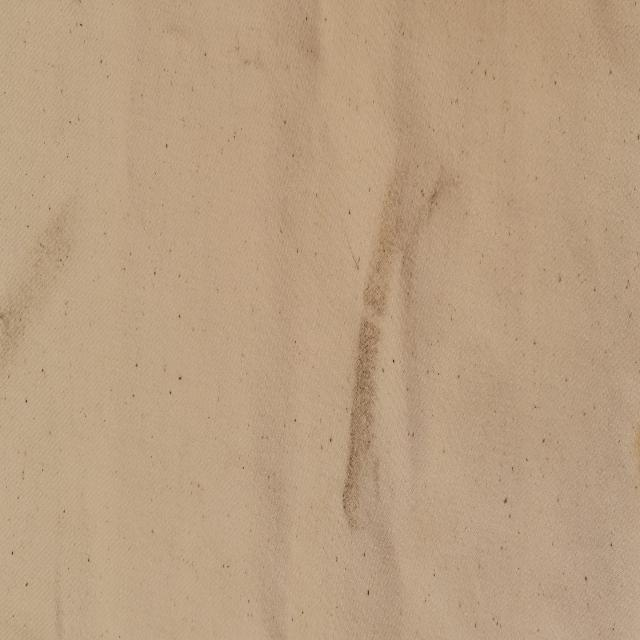taaaches: (344, 110, 466, 620)
